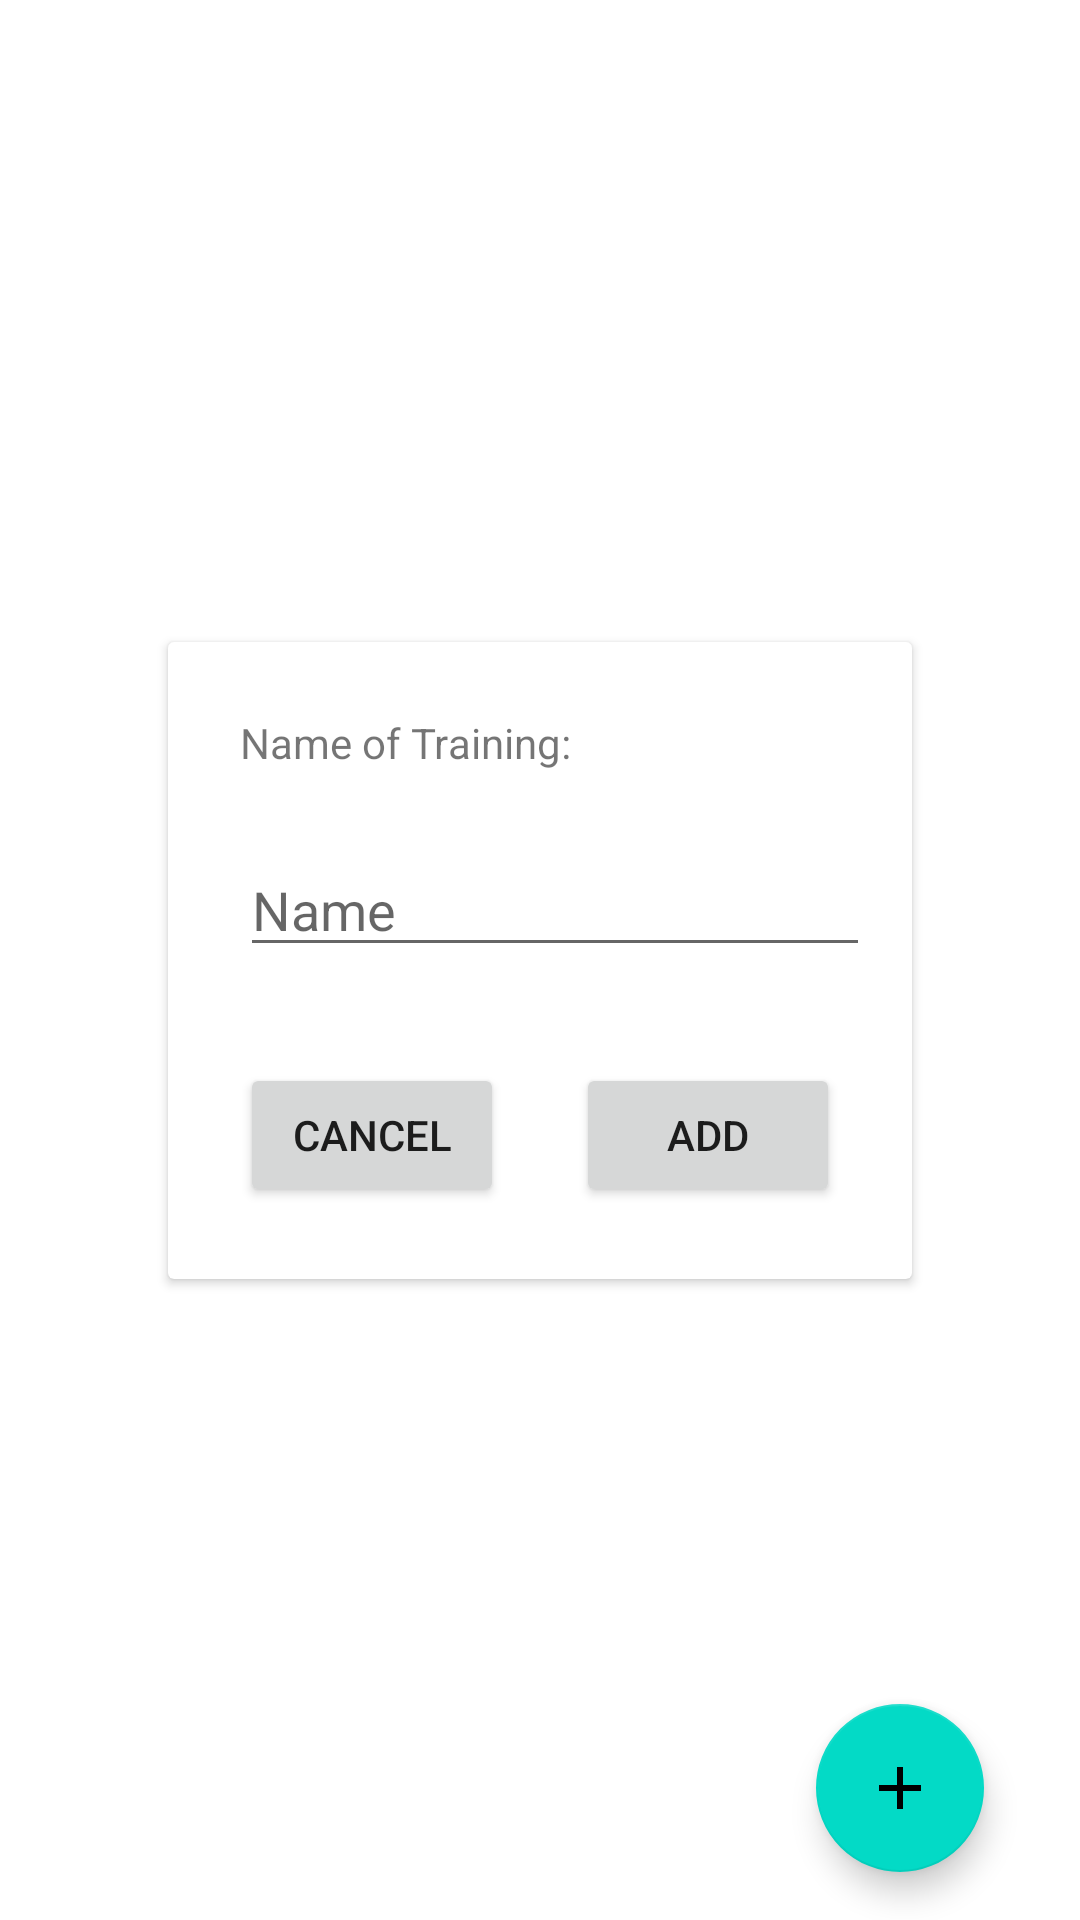

Screen size 1080 x 1920. Icon name, then its center in pixels as (x,y):
add: (900,1788)
